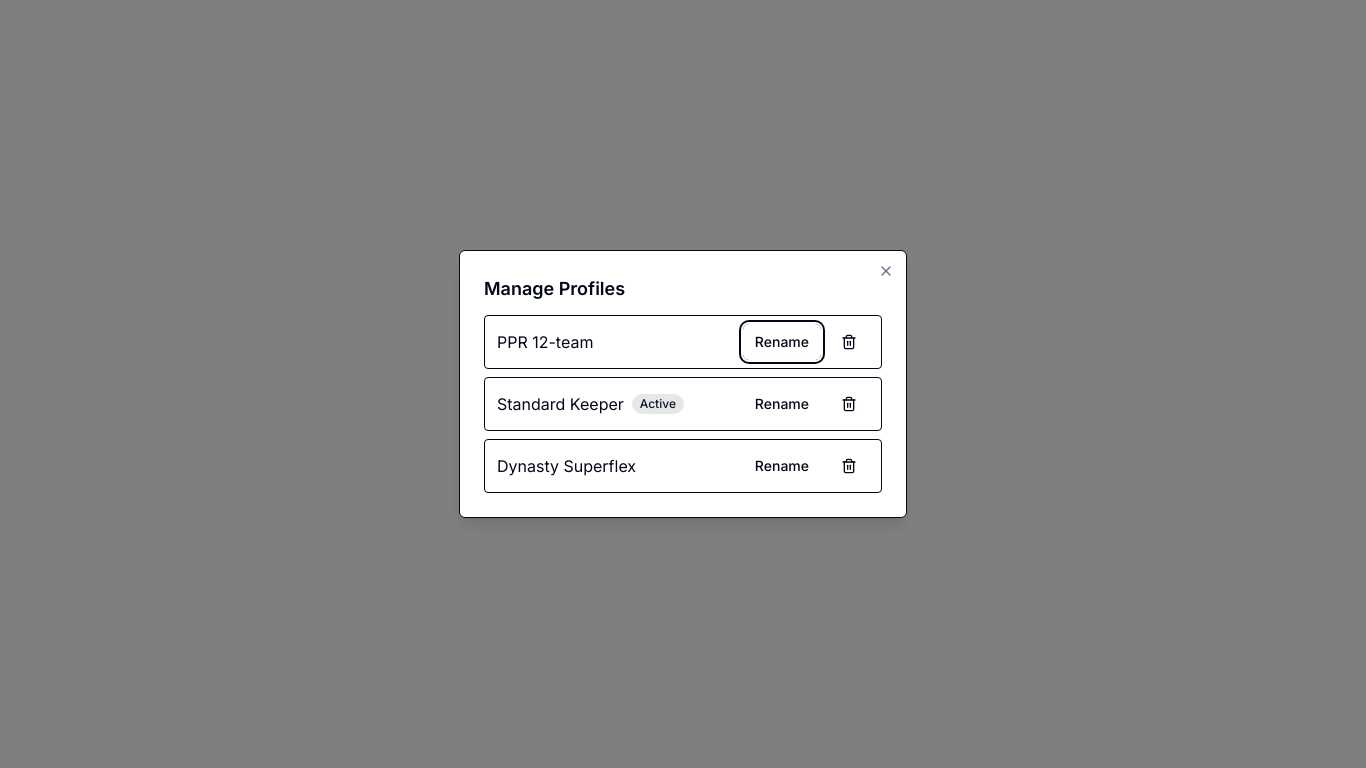
Test case: ProfileManagerDialog › uses the generic confirm copy with no warning when deleting a non-active profile
The width and height of the screenshot is (1366, 768).
Click the button named "delete PPR 12-team" at (849, 342), box [829,324,869,360]
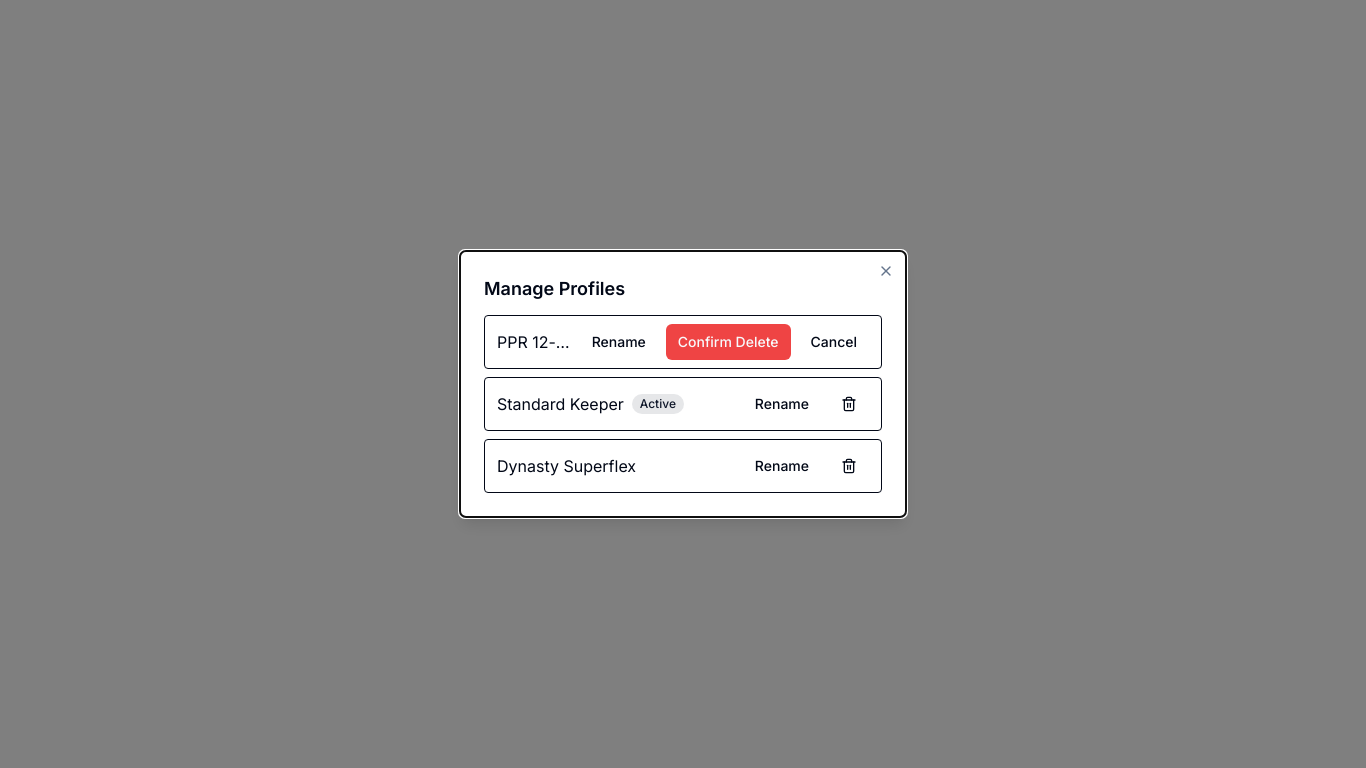
Expected: the button "Confirm Delete" is shown, [666,324,790,360]
